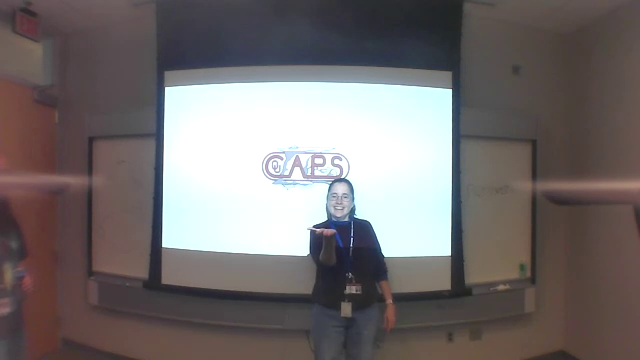land: (304, 222, 339, 244)
